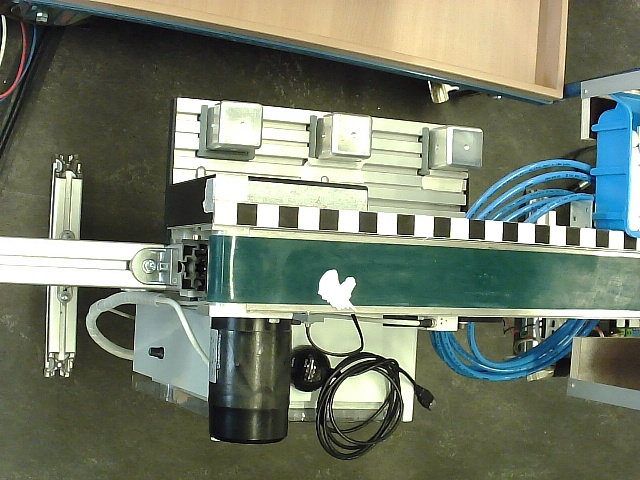unicorn: (317, 268, 358, 313)
